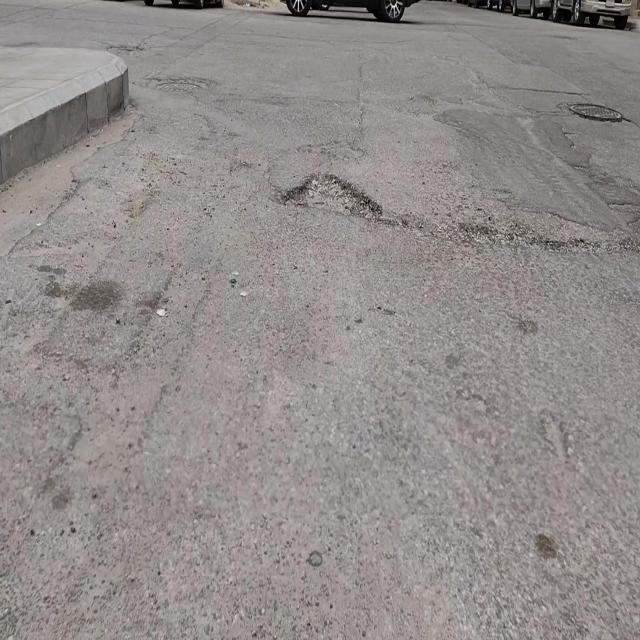Potholes: (281, 166, 383, 222)
